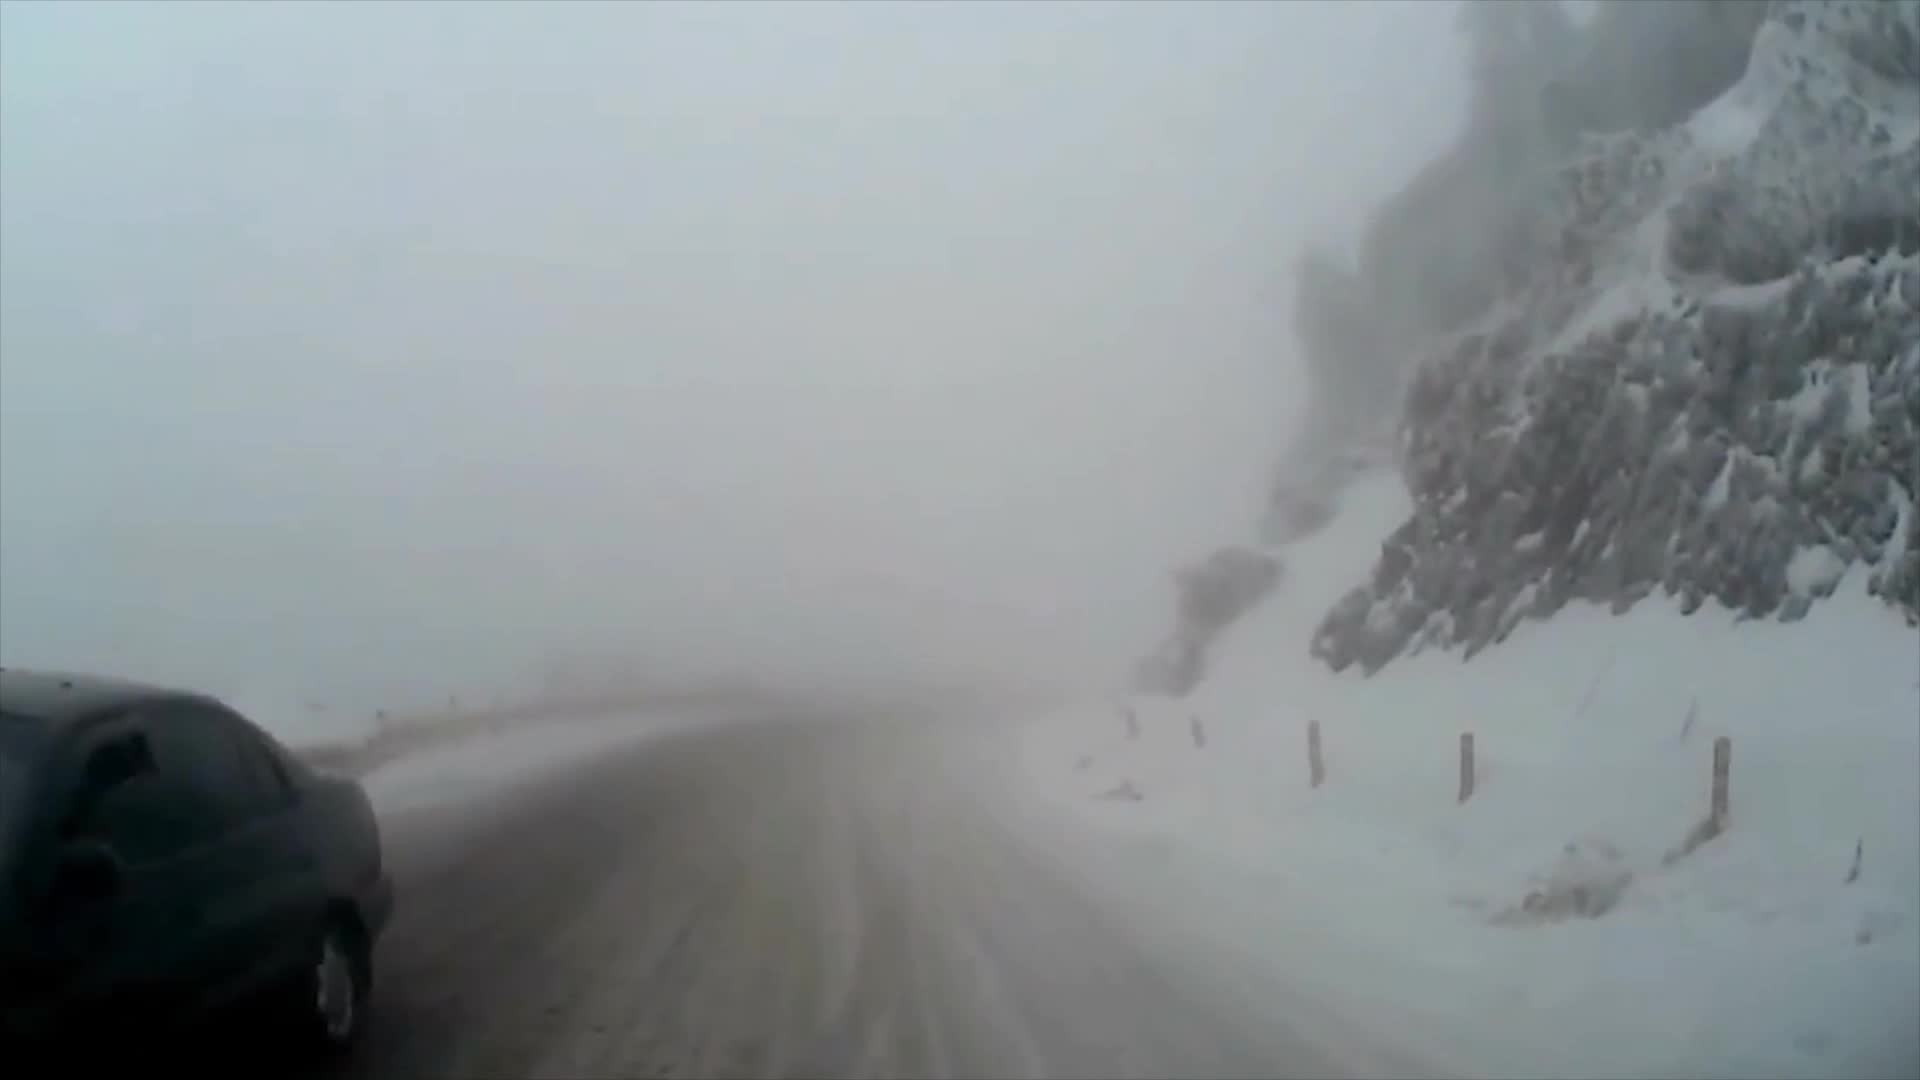vehicle: (0, 665, 398, 1079)
